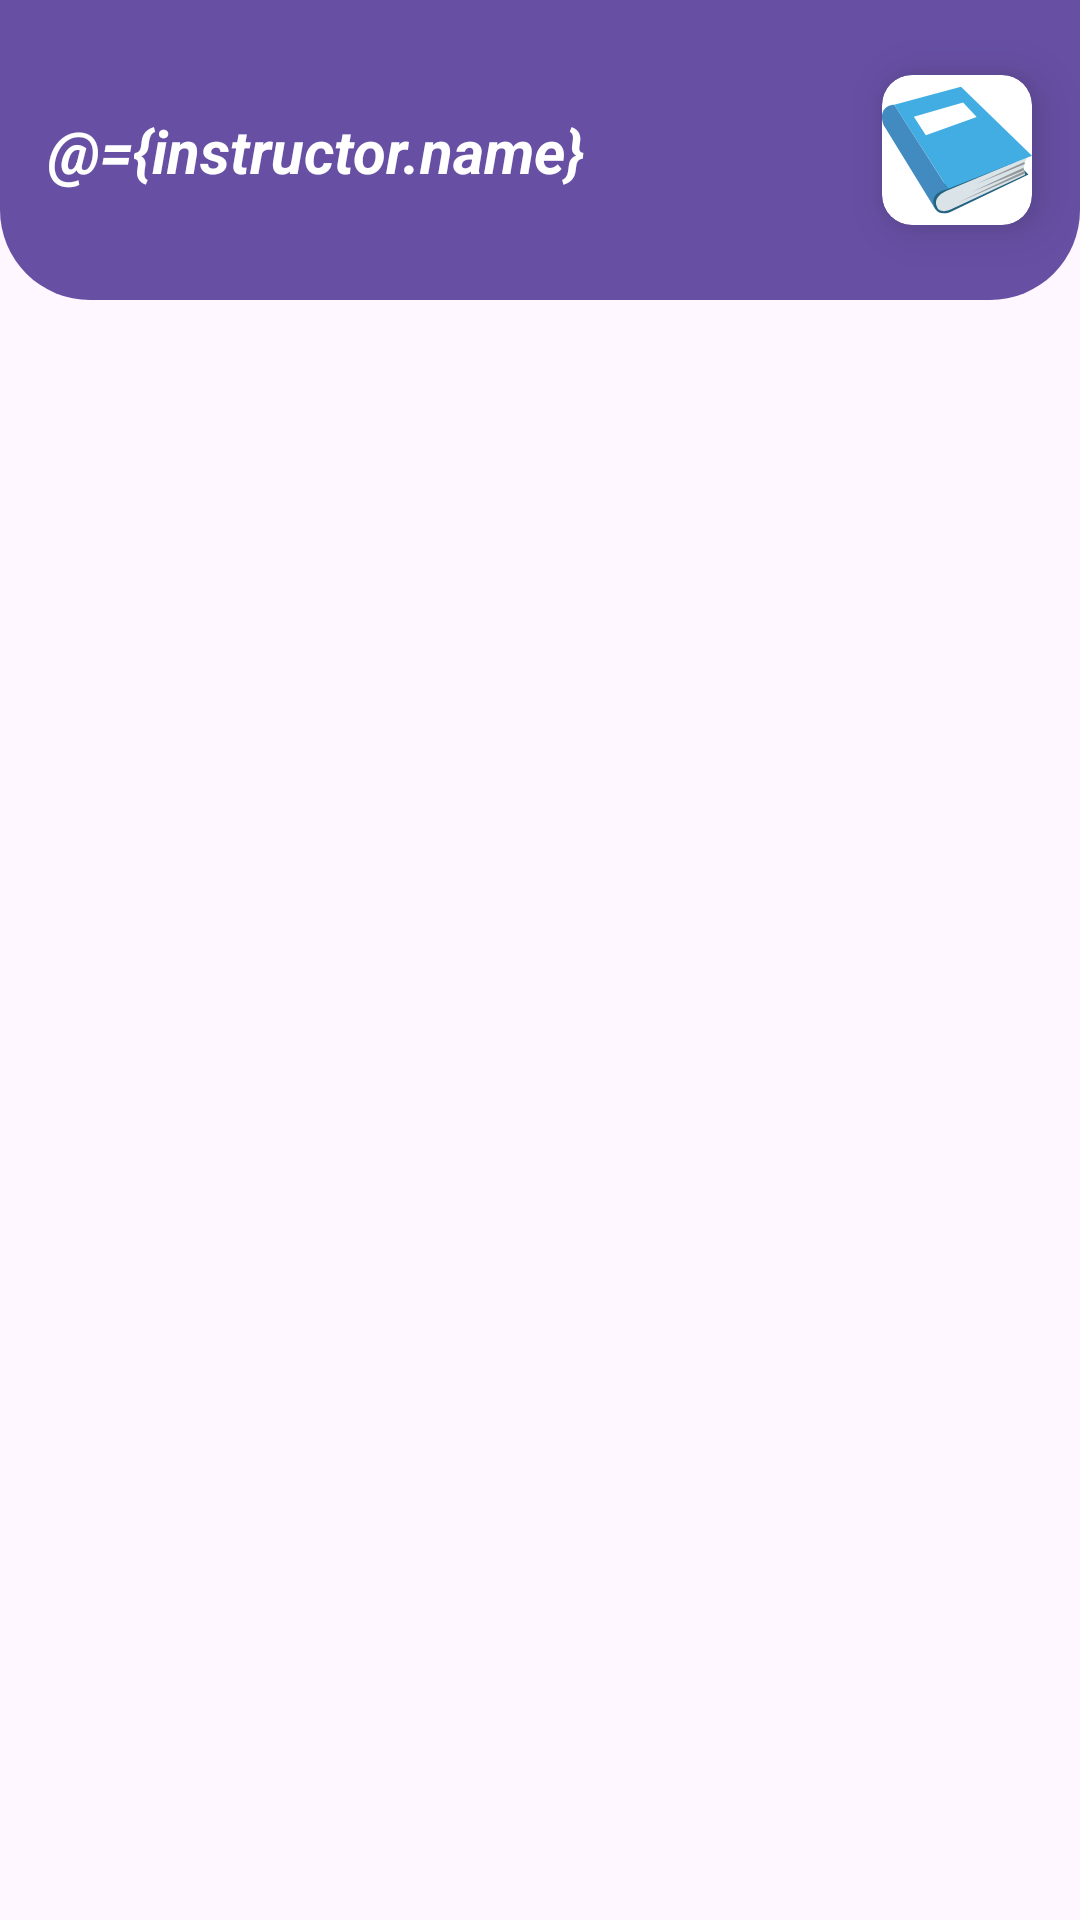

Where to tap for icons on this 1080*1920 app screen, as (x,y):
resources: (957,150)
